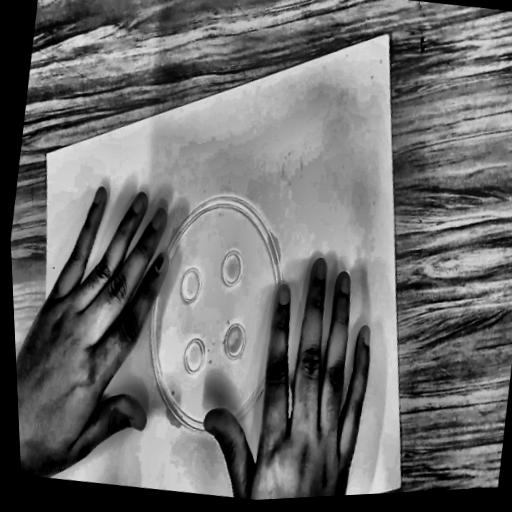bottom_right: (394, 477, 406, 493)
button: (139, 167, 292, 461)
top_left: (42, 148, 51, 161)
top_right: (382, 27, 394, 45)
